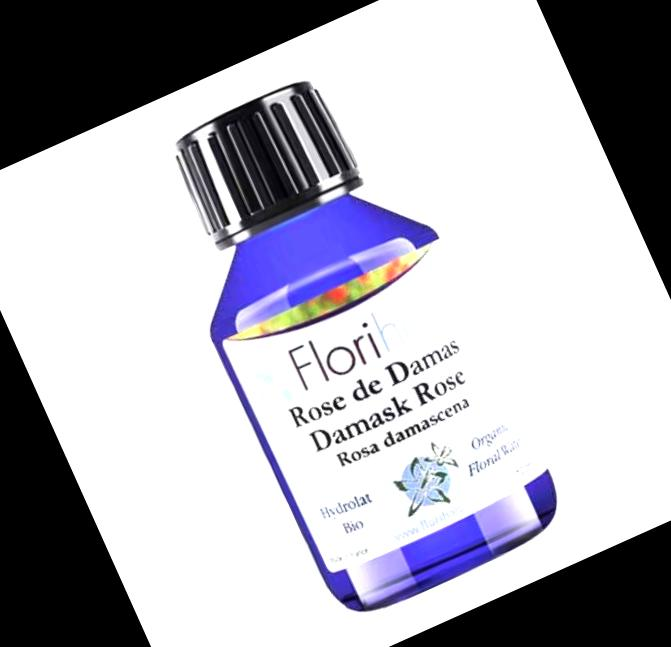cosmetic: (124, 48, 572, 626)
